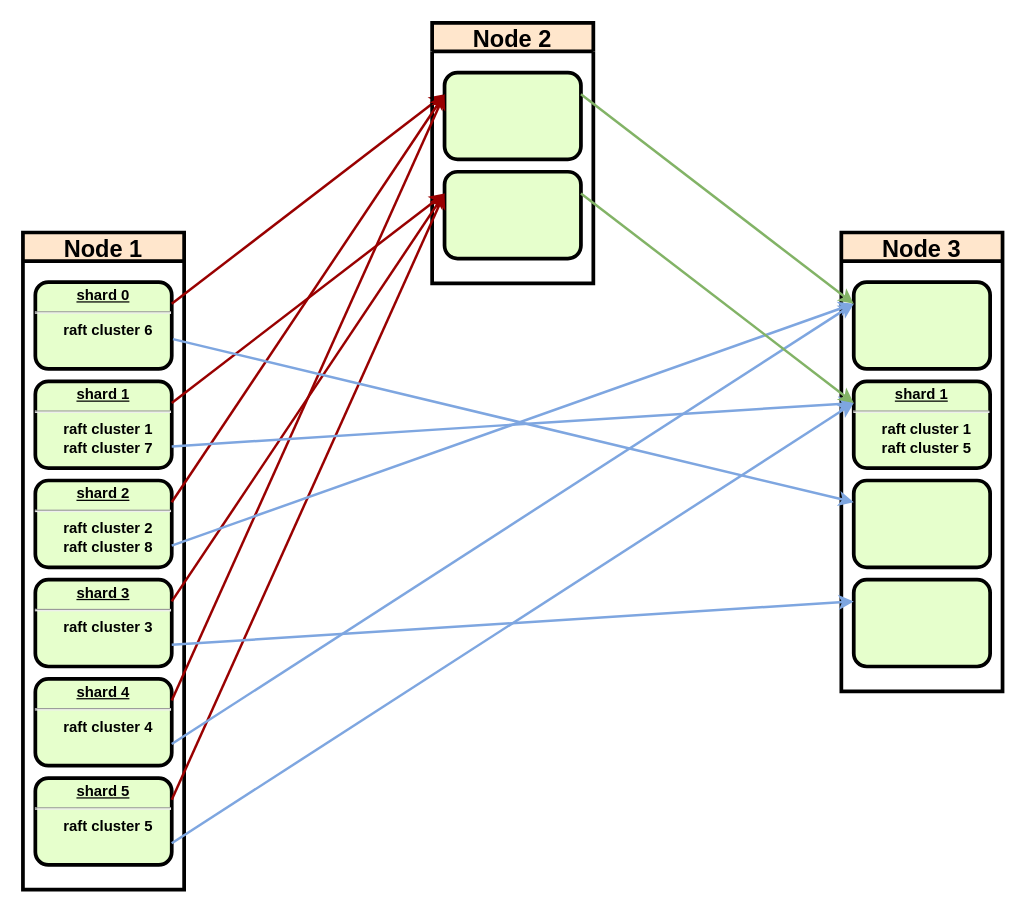
Image size: 1025x913. Some labels were removed from this diagram. Here are the shapes that lost their labels. From the top down, the centre of each, then its label:
point (512, 115): shard 0 raft cluster 2 4 6 8
point (512, 214): shard 1 raft cluster 1 3 5 7
point (921, 325): shard 0 raft cluster 4 raft cluster 8
point (921, 523): shard 2 raft cluster 2 raft cluster 6
point (921, 622): shard 3 raft cluster 3 raft cluster 7
